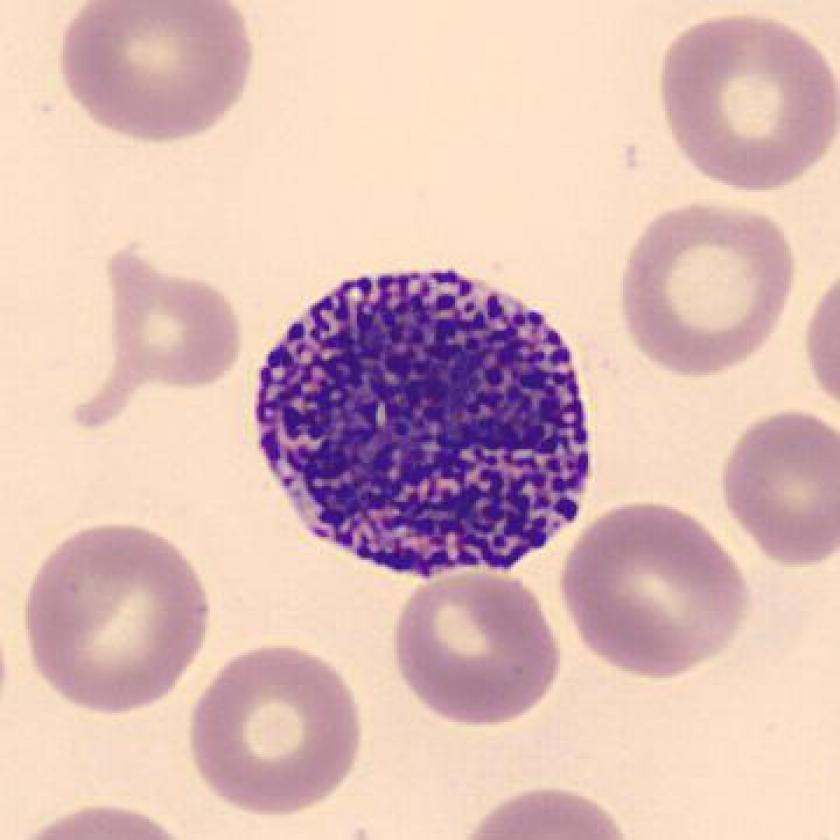basophil: (244, 244, 619, 577)
